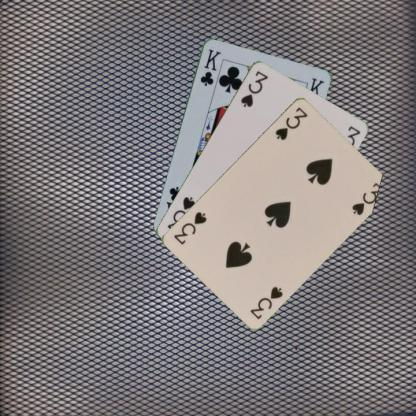3s: (272, 103, 310, 141), (247, 283, 284, 321), (238, 68, 270, 108)
Kc: (197, 46, 222, 87)
